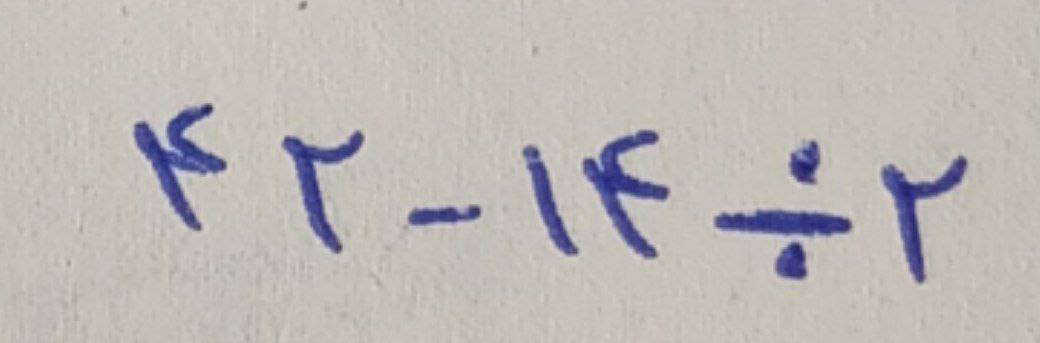character: (707, 133, 858, 281), (128, 99, 234, 236), (876, 140, 973, 288), (582, 119, 679, 258), (276, 122, 367, 261), (515, 147, 581, 257), (401, 198, 494, 231)
